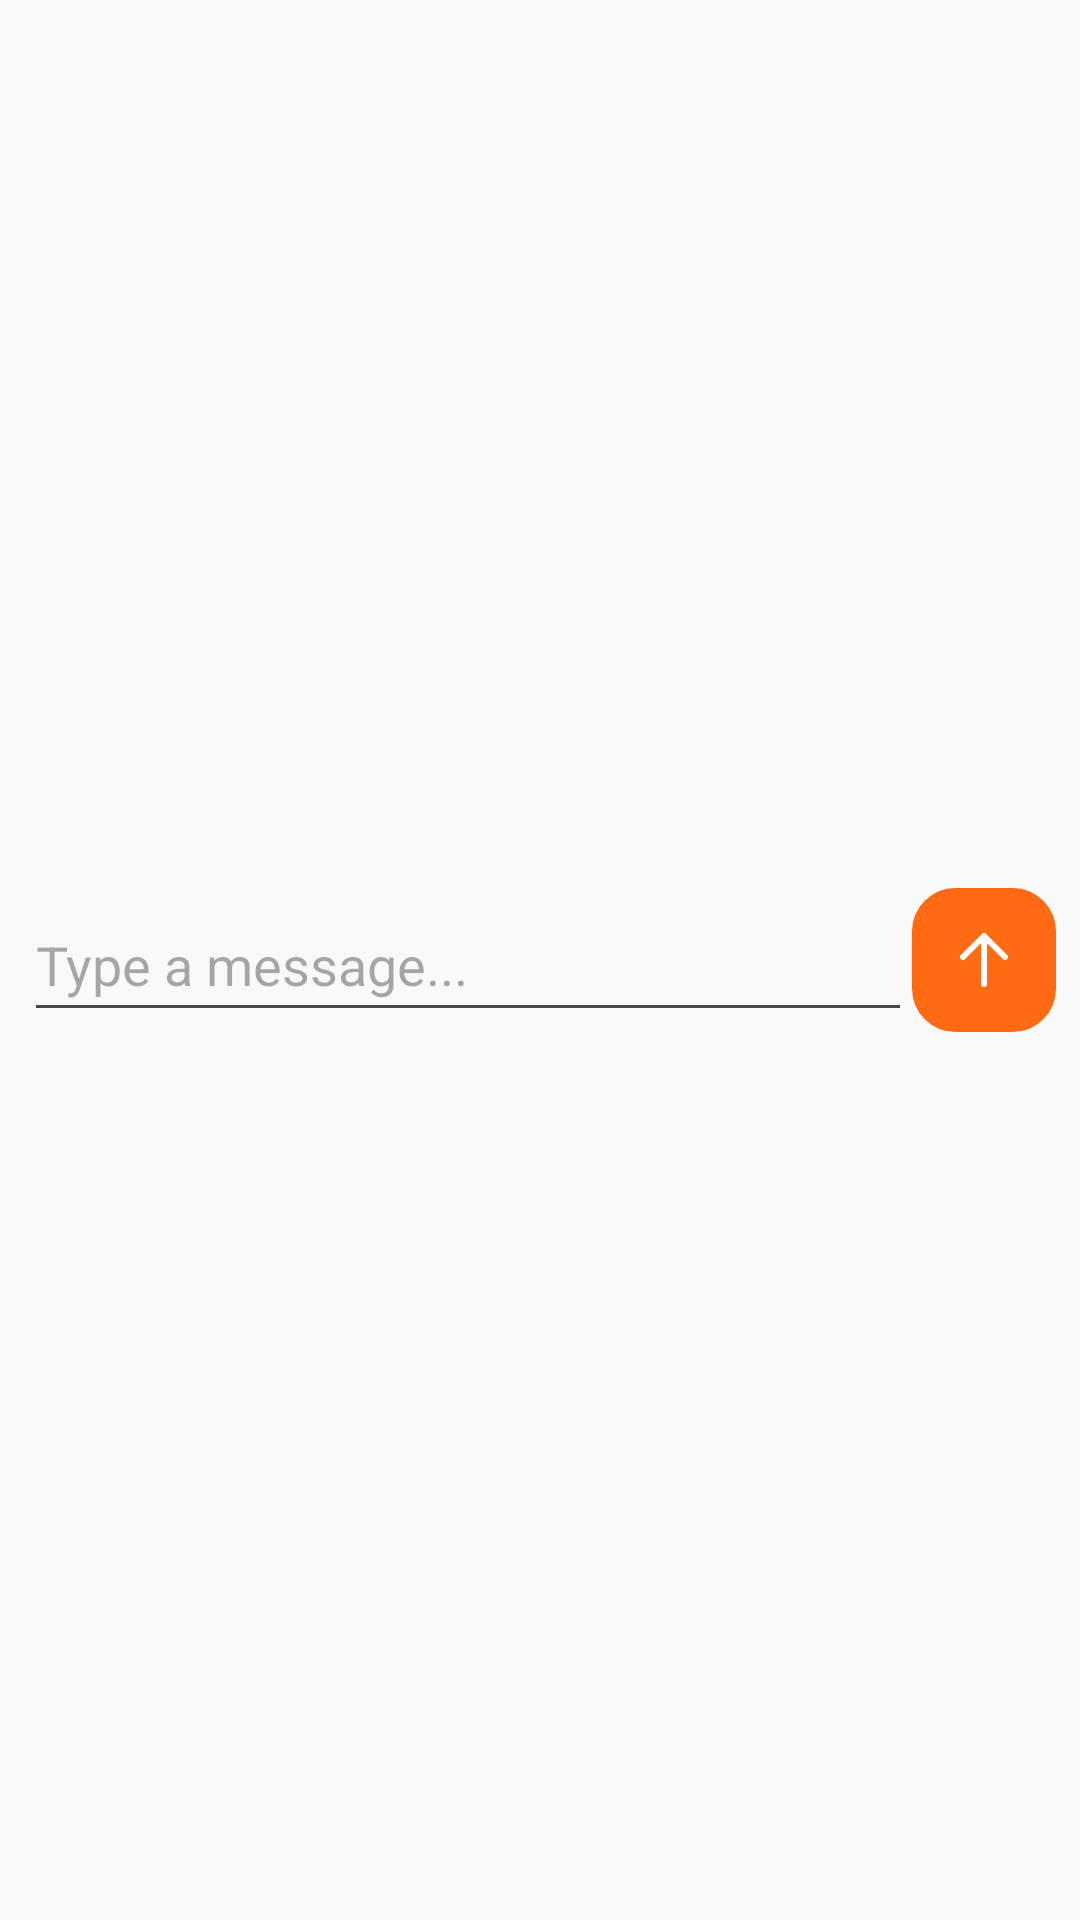

Icons on this 1080px×1920px Android screen, each with its box as box(x1, y1, x2, y2):
Send message: box(912, 888, 1056, 1032)
